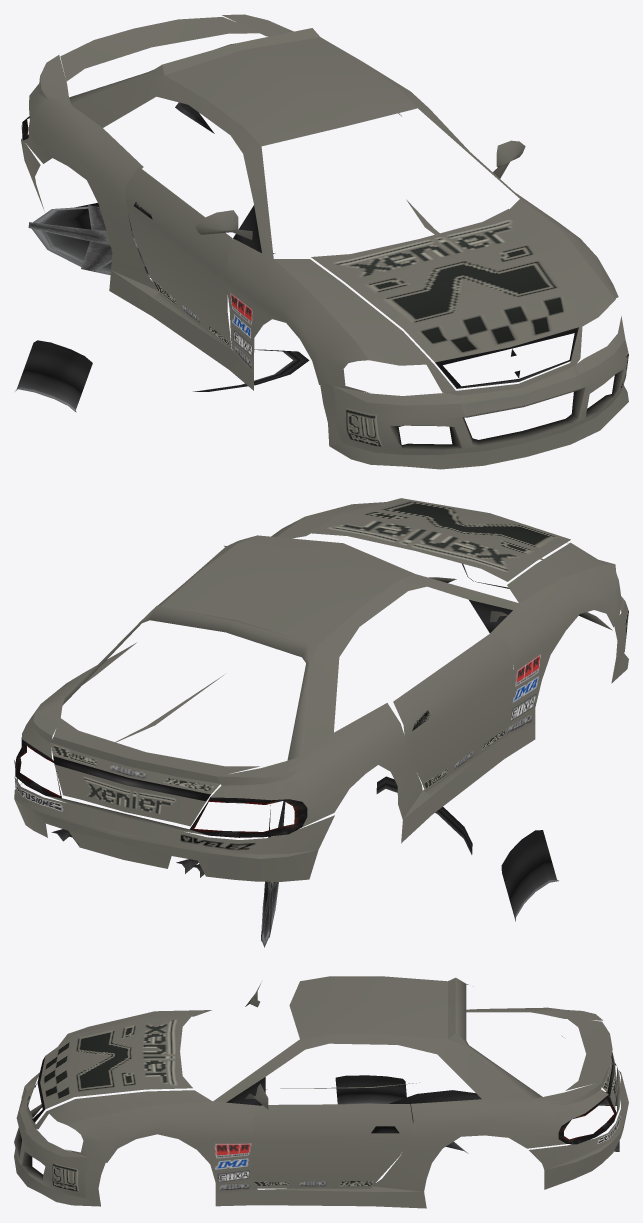
The model's file is car-COMP_Car4.glb.
The picture shows the model from 3 angles, top to bottom: view 1: azimuth 30°, elevation 25°; view 2: azimuth 150°, elevation 25°; view 3: azimuth 270°, elevation 25°; orthographic projection. The views are drawn at different scales.
Parts seen in each view (by area): view 1: COMP_Car4; view 2: COMP_Car4; view 3: COMP_Car4.
Boxes of the visible parts, <box> form: COMP_Car4: <box>15,14,628,469</box>; COMP_Car4: <box>14,498,628,947</box>; COMP_Car4: <box>14,976,628,1208</box>.
Size of the model in its own units: 2.59 by 1.55 by 4.26.
10 materials, 10 textured.
